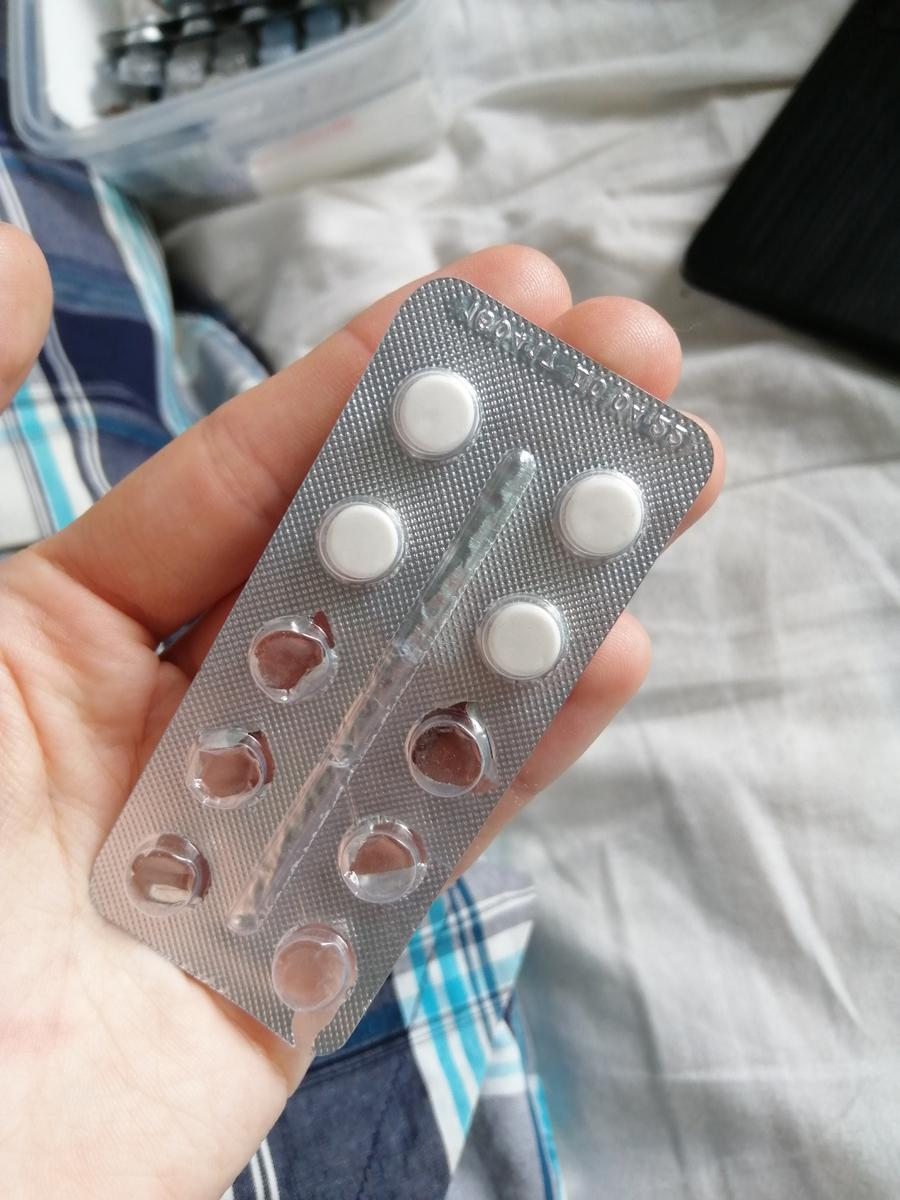tablet: (314, 496, 406, 587), (554, 468, 643, 560), (477, 597, 569, 685), (395, 369, 475, 460)
